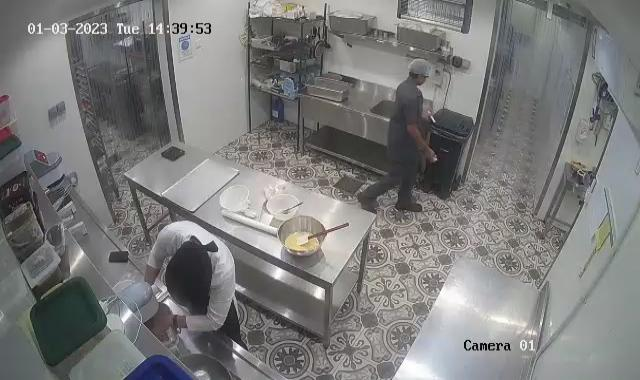hairnet: (405, 56, 432, 83)
no_hairnet: (166, 238, 215, 312)
